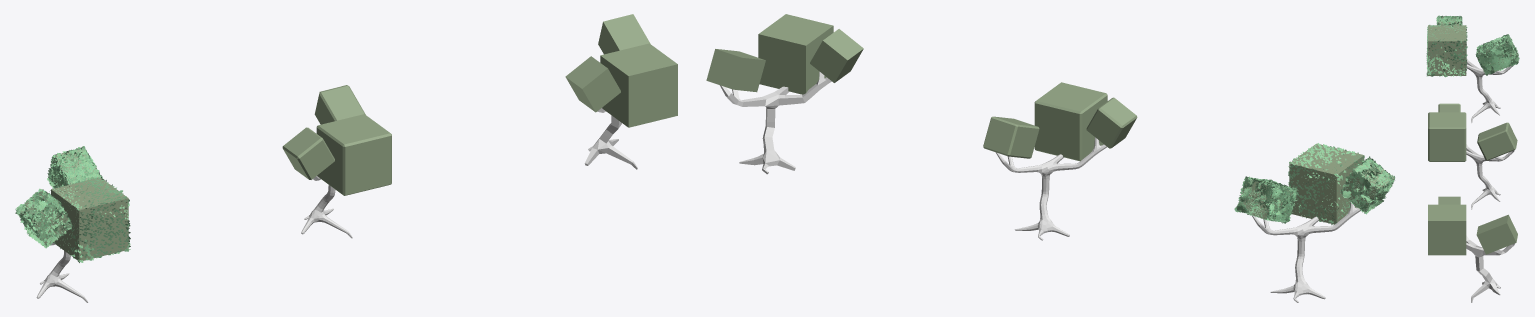
Rendered from trM1.fbx.
The picture shows the model from 3 angles, left to right: view 1: azimuth 30°, elevation 25°; view 2: azimuth 150°, elevation 25°; view 3: azimuth 270°, elevation 25°; orthographic projection. The views are drawn at different scales.
Visible parts, largest first — view 1: Vert.002, Vert.010, Vert.005; view 2: Vert.010, Vert.002, Vert.005; view 3: Vert.002, Vert.010, Vert.005.
Part boxes in pixels (bbox=[...]): Vert.002: bbox=[15, 146, 130, 302]; Vert.010: bbox=[565, 14, 677, 169]; Vert.005: bbox=[282, 85, 391, 238]; Vert.010: bbox=[706, 14, 863, 174]; Vert.002: bbox=[1234, 143, 1394, 302]; Vert.005: bbox=[983, 82, 1137, 240]; Vert.002: bbox=[1426, 15, 1519, 122]; Vert.010: bbox=[1428, 196, 1517, 302]; Vert.005: bbox=[1428, 103, 1517, 209].
Size of the model in its own units: 4510 by 895 by 844.
